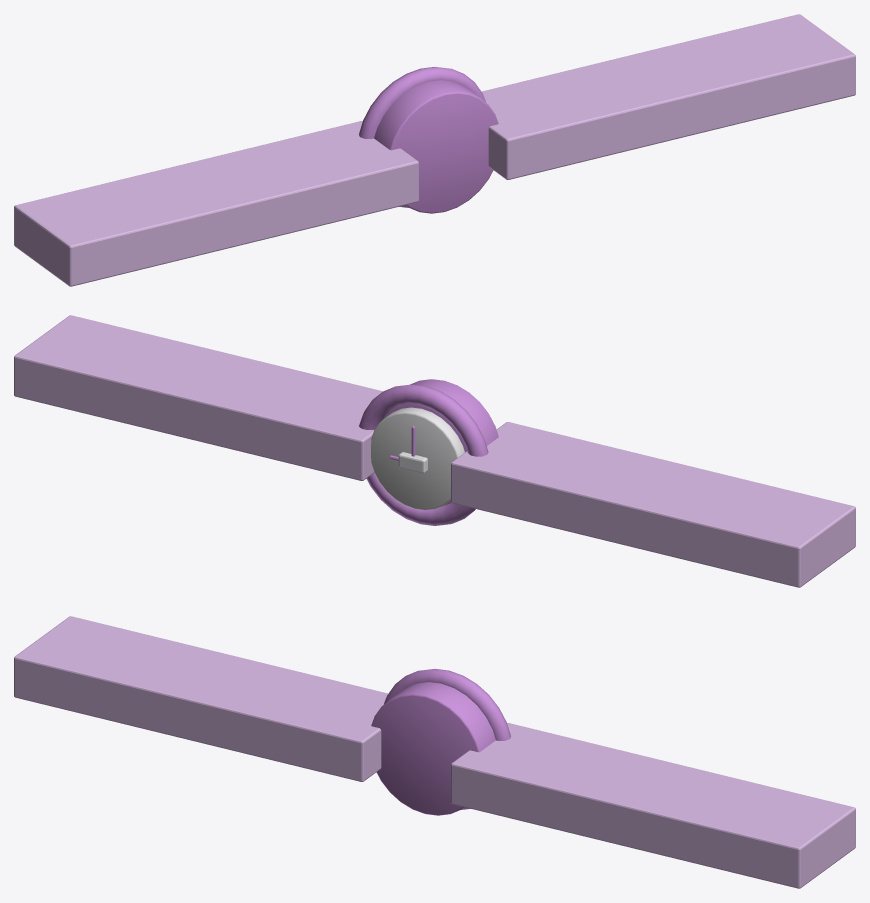
File: VM-ACC-EXT194.glb
3 views of the same model, one above another, from view 1: azimuth 30°, elevation 25°; view 2: azimuth 150°, elevation 25°; view 3: azimuth 330°, elevation 25° (orthographic).
Parts seen in each view (by area): view 1: Reloj de Pulsera Dama; view 2: Reloj de Pulsera Dama; view 3: Reloj de Pulsera Dama.
Part boxes in pixels (x1,y1,x2,y2): Reloj de Pulsera Dama: [14, 14, 855, 286]; Reloj de Pulsera Dama: [14, 315, 855, 587]; Reloj de Pulsera Dama: [14, 616, 855, 888].
Size of the model in its own units: 0.3672 by 0.0612 by 0.0459.
